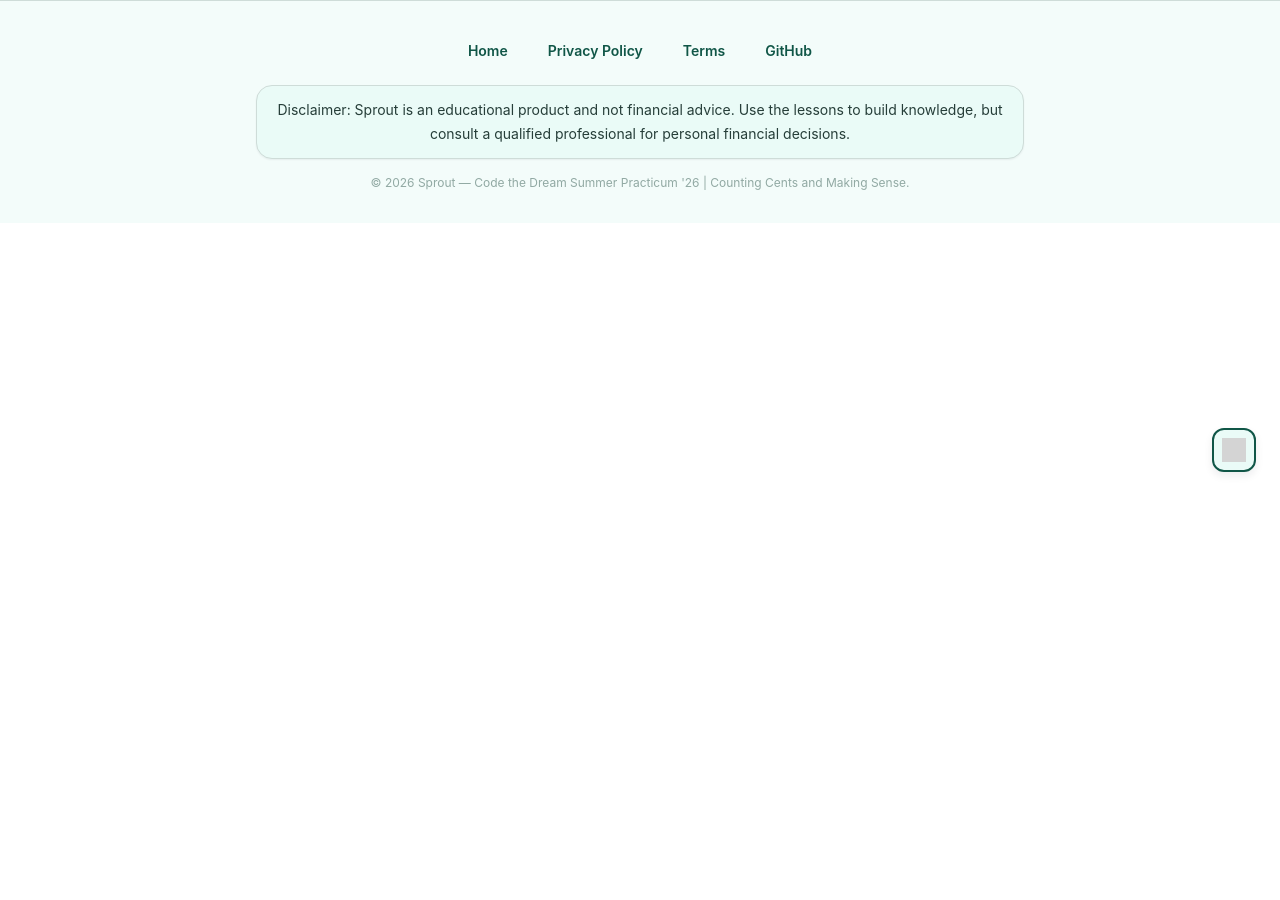
Test case: Footer glossary button › opens glossary and references supplied by the active module
Click the button named "Open glossary and references". click: [1234, 450]
box: [1212,428,1256,472]
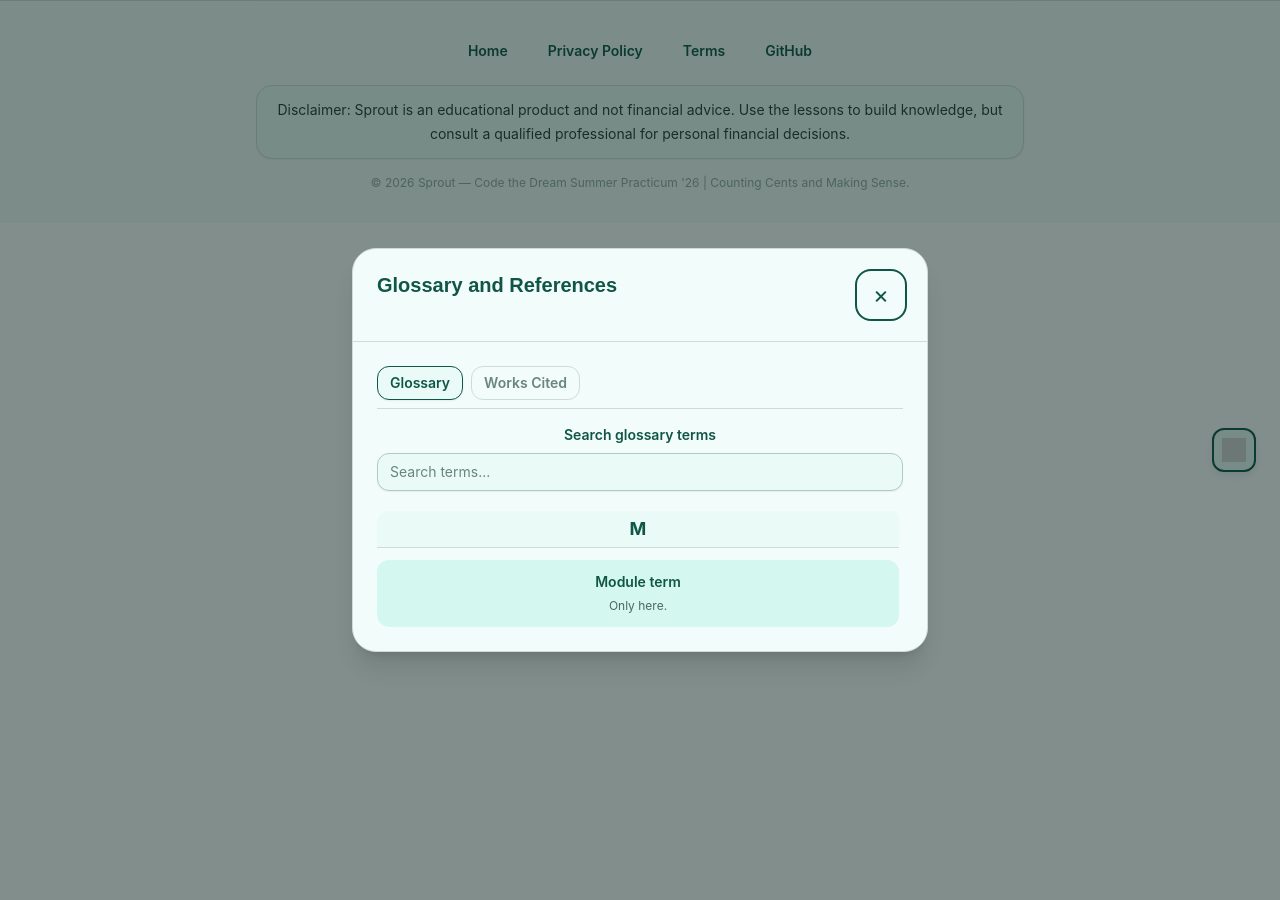
Check: the text "Module term" is shown, box [595,573,681,590]
Click the button "Works Cited". click: [526, 383]
box: [471,366,580,400]
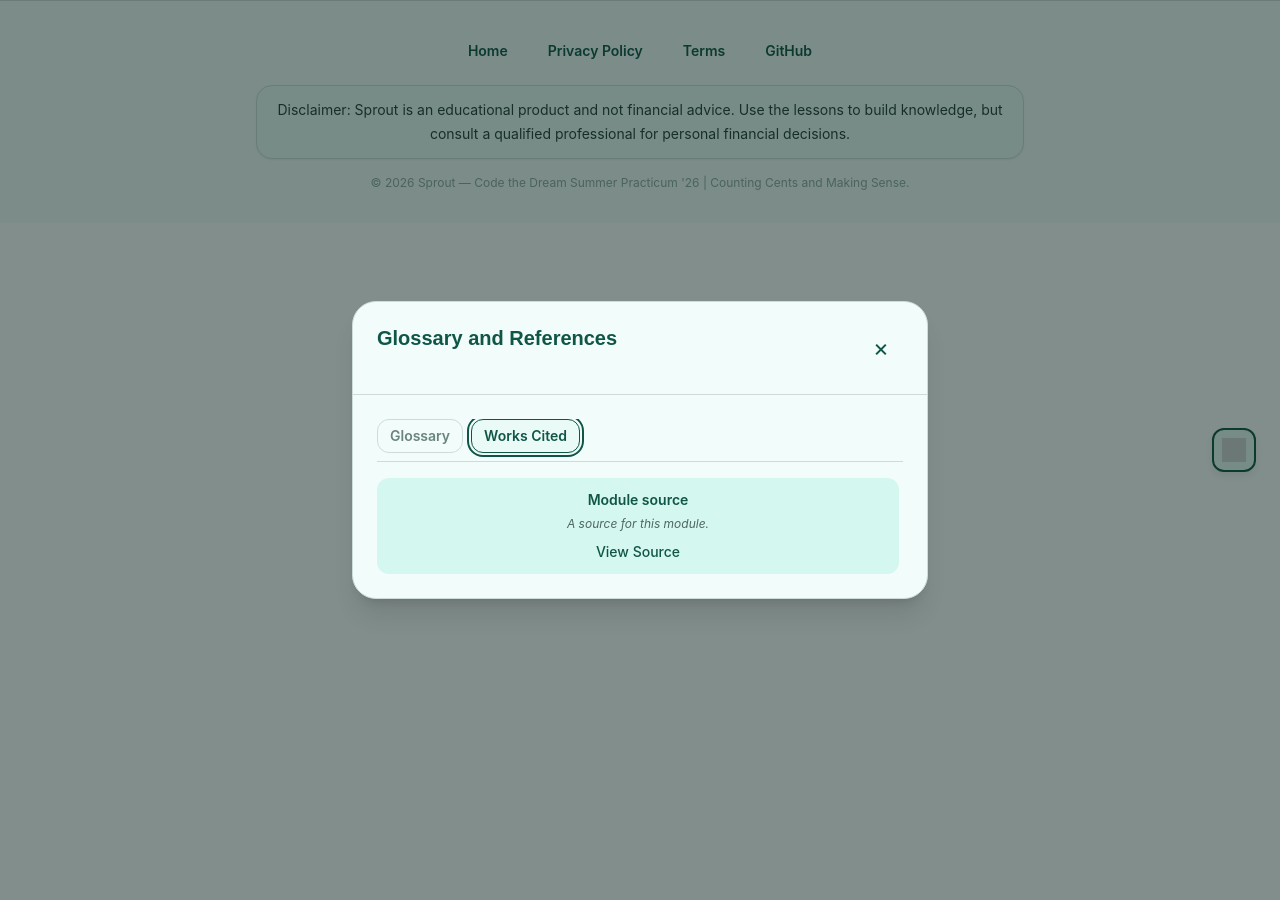
Check: the text "Module source" is shown, box [588,491,688,508]
